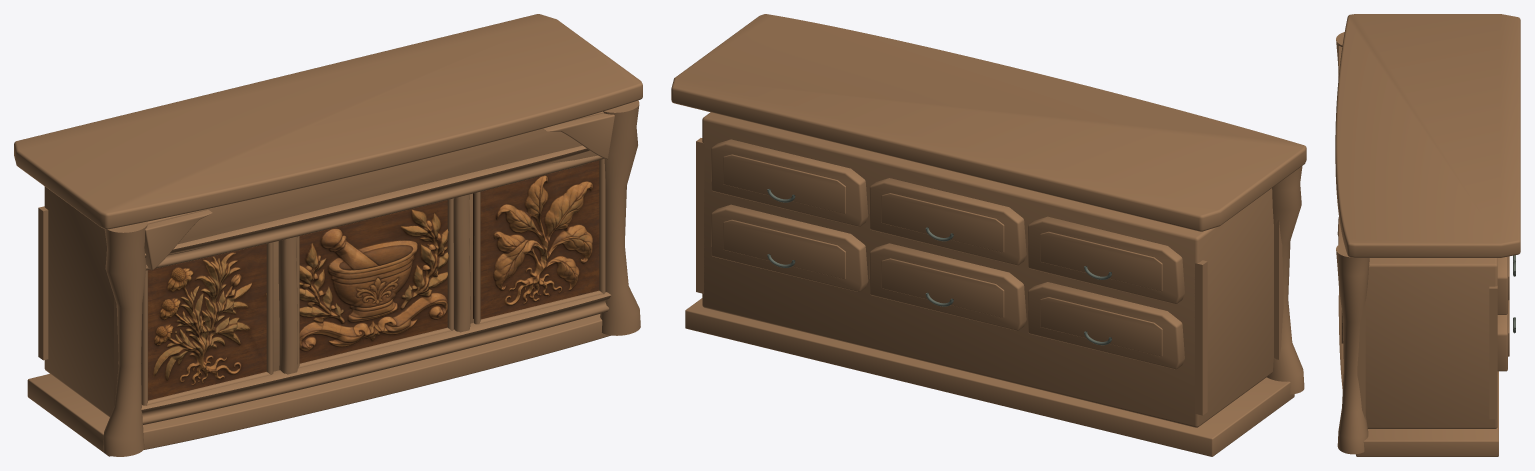
Rendered from CM_CW07_HeroCounter.fbx.
The picture shows the model from 3 angles, left to right: view 1: azimuth 30°, elevation 25°; view 2: azimuth 150°, elevation 25°; view 3: azimuth 270°, elevation 25°; orthographic projection. The views are drawn at different scales.
Parts seen in each view (by area): view 1: CM_CW07_HeroCounter; view 2: CM_CW07_HeroCounter; view 3: CM_CW07_HeroCounter.
Boxes of the visible parts, left/top/right/bottom form: CM_CW07_HeroCounter: left=14, top=14, right=642, bottom=456; CM_CW07_HeroCounter: left=671, top=14, right=1306, bottom=456; CM_CW07_HeroCounter: left=1335, top=14, right=1520, bottom=456.
Size of the model in its own units: 2.28 by 0.9975 by 0.7715.
